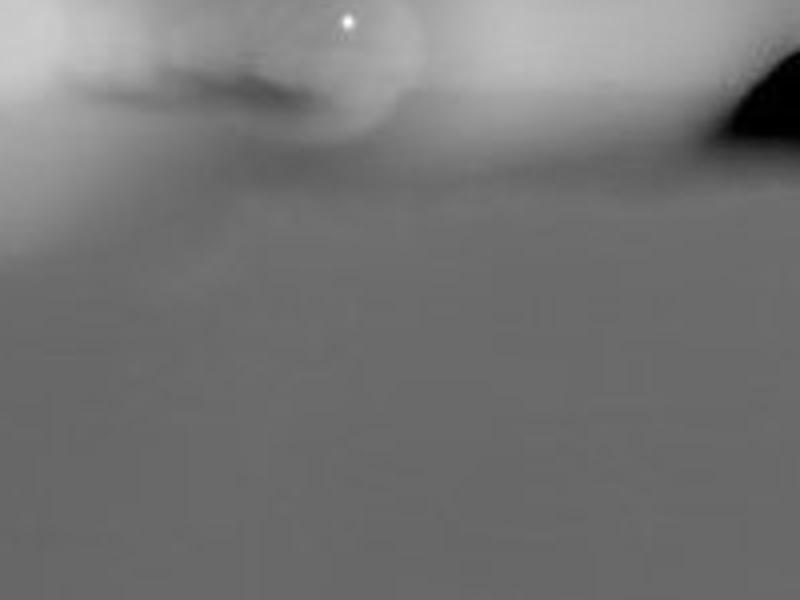defect: (718, 42, 799, 155)
